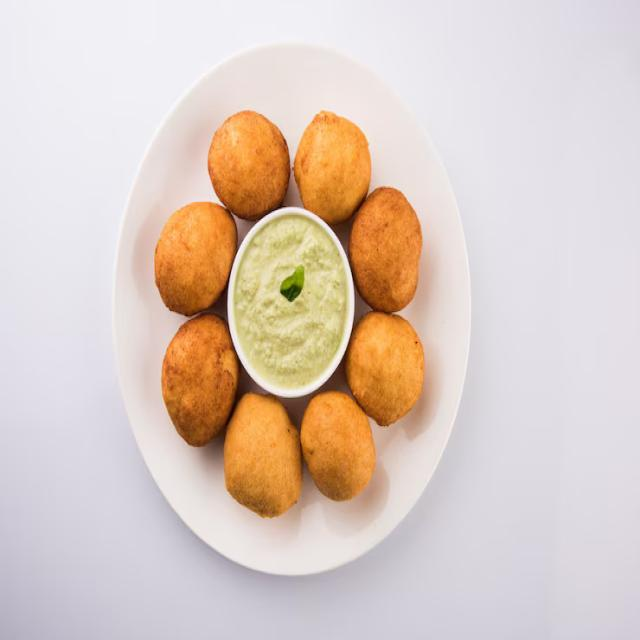BONDA: (149, 113, 425, 517)
WHITE CHUTNEY: (231, 211, 358, 383)
